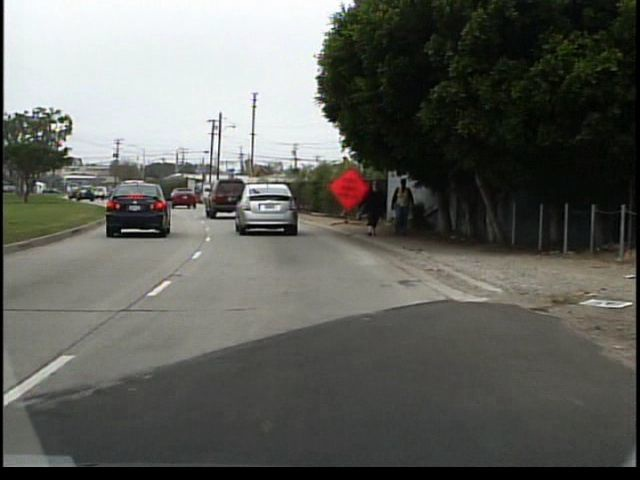person: (353, 174, 389, 242), (390, 177, 416, 241)
